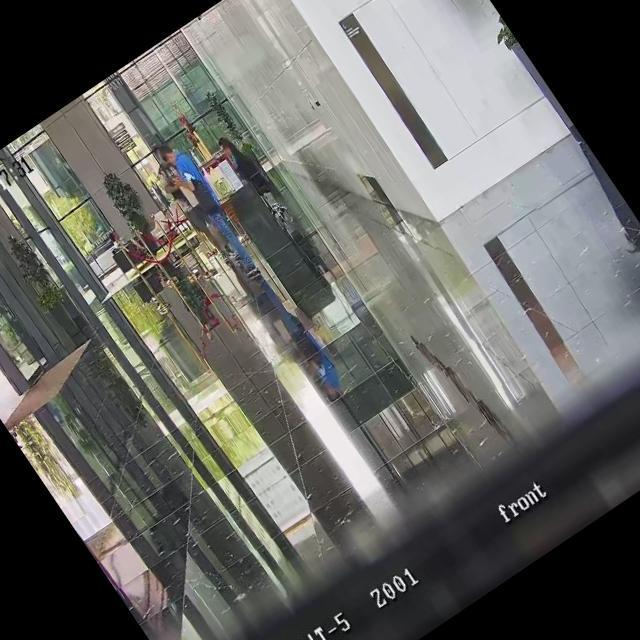person: (145, 134, 265, 286), (154, 134, 264, 280), (217, 132, 267, 192), (108, 219, 156, 273), (148, 178, 178, 218)
